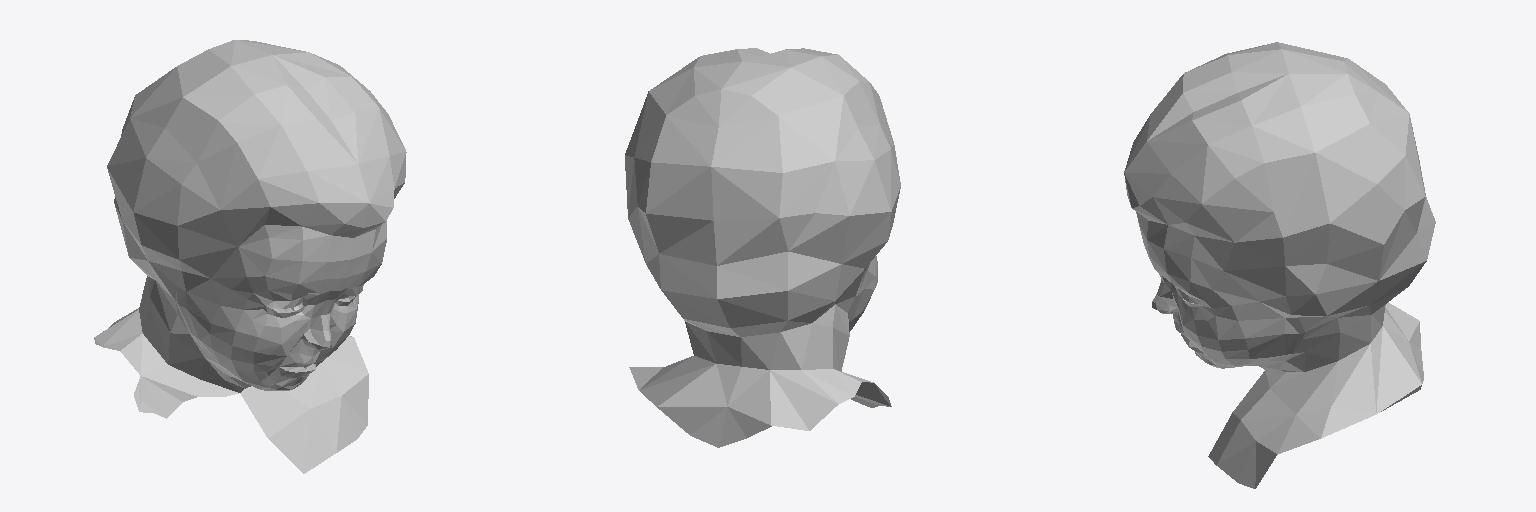
File: statue_broken.obj
The picture shows the model from 3 angles: view 1: azimuth 30°, elevation 25°; view 2: azimuth 150°, elevation 25°; view 3: azimuth 270°, elevation 25°; orthographic projection.
Parts seen in each view (by area): view 1: rdmobj04; view 2: rdmobj04; view 3: rdmobj04.
Boxes of the visible parts, <box> form: rdmobj04: <box>94,40,406,473</box>; rdmobj04: <box>625,48,900,447</box>; rdmobj04: <box>1124,42,1435,488</box>.
Size of the model in its own units: 1.36 by 2.05 by 1.49.